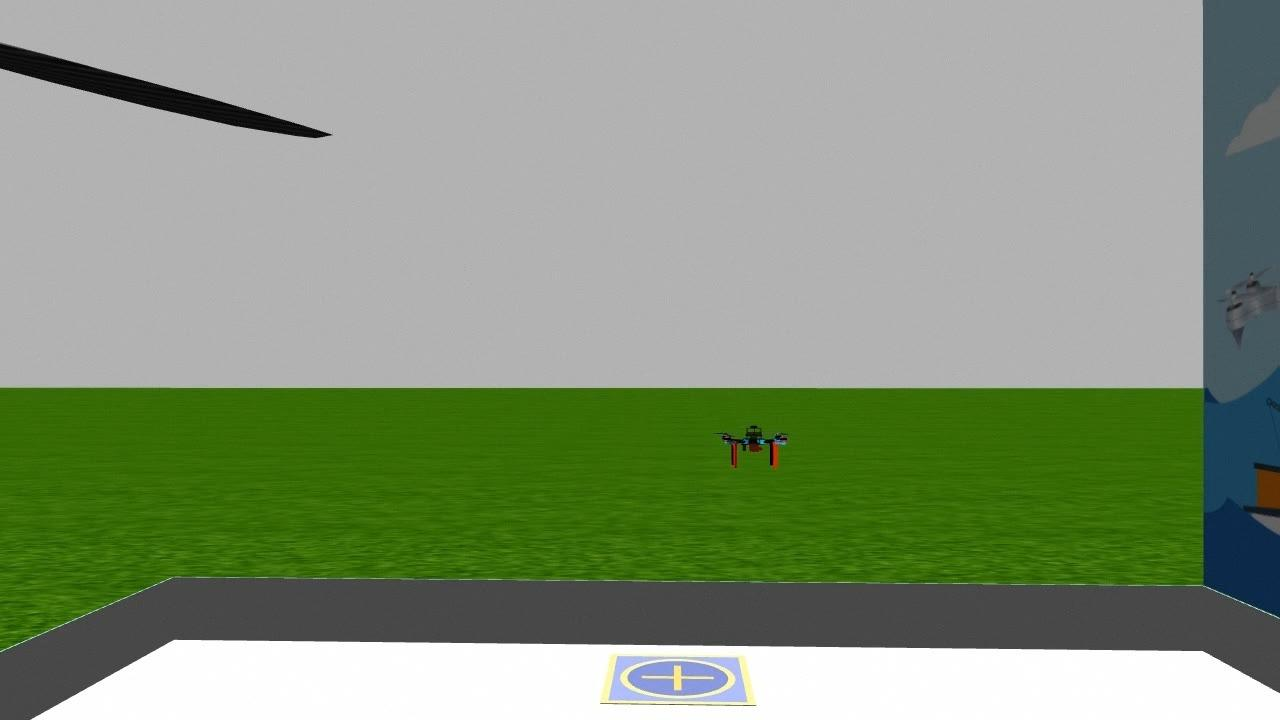UAV: (710, 416, 800, 476)
